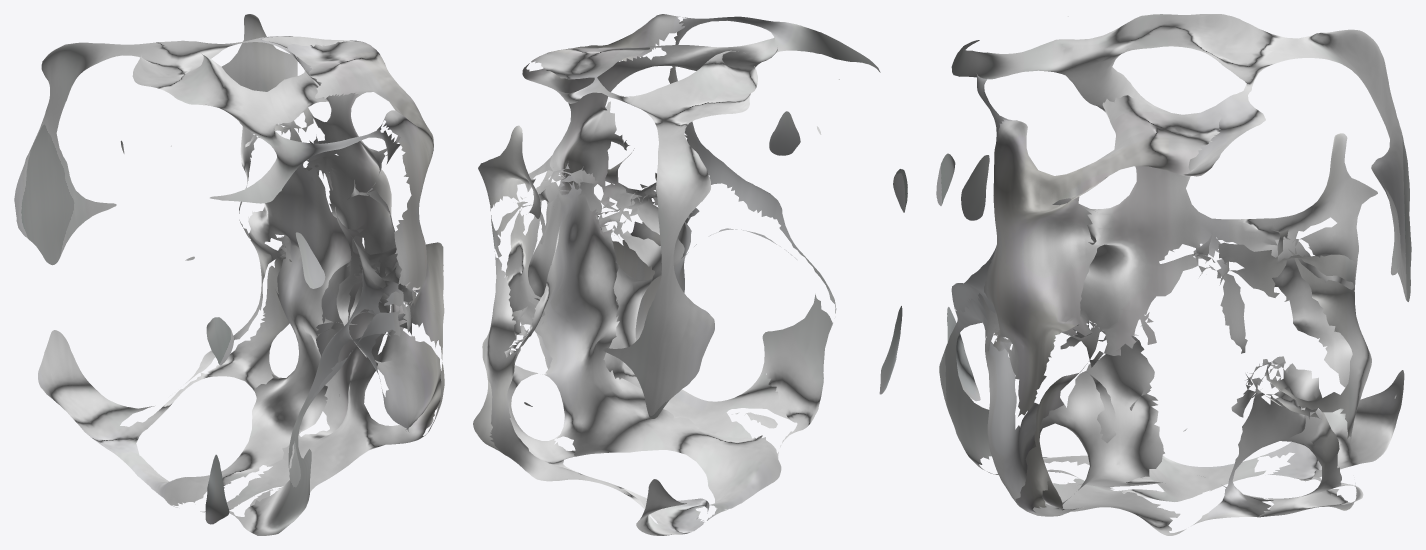
3 views of the same model, side by side, from view 1: azimuth 30°, elevation 25°; view 2: azimuth 150°, elevation 25°; view 3: azimuth 270°, elevation 25° (orthographic). The views are drawn at different scales.
Visible parts, largest first — view 1: Renderer Node; view 2: Renderer Node; view 3: Renderer Node.
Part boxes in pixels (left/top/right/bottom): Renderer Node: left=14, top=14, right=444, bottom=535; Renderer Node: left=473, top=14, right=907, bottom=535; Renderer Node: left=936, top=14, right=1411, bottom=535.
Size of the model in its own units: 1.57 by 2.31 by 2.06.
Materials: 1 (1 with a texture image).
